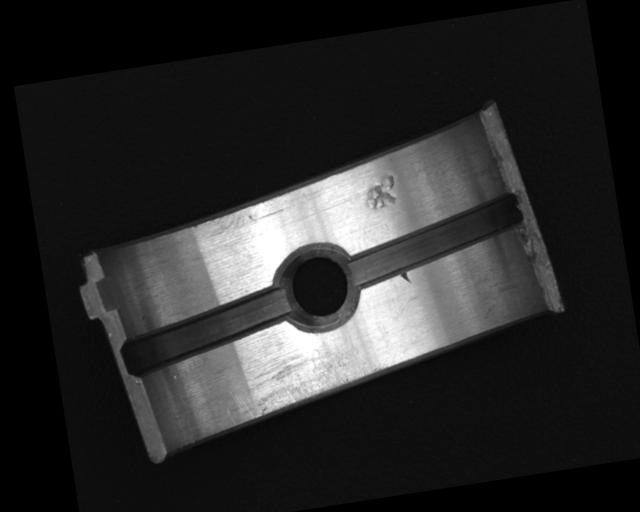bruise: (360, 171, 401, 212), (399, 270, 413, 286)
gap: (341, 193, 532, 289), (114, 283, 297, 377)
hole: (271, 240, 364, 335)
scratch: (217, 330, 385, 430)
